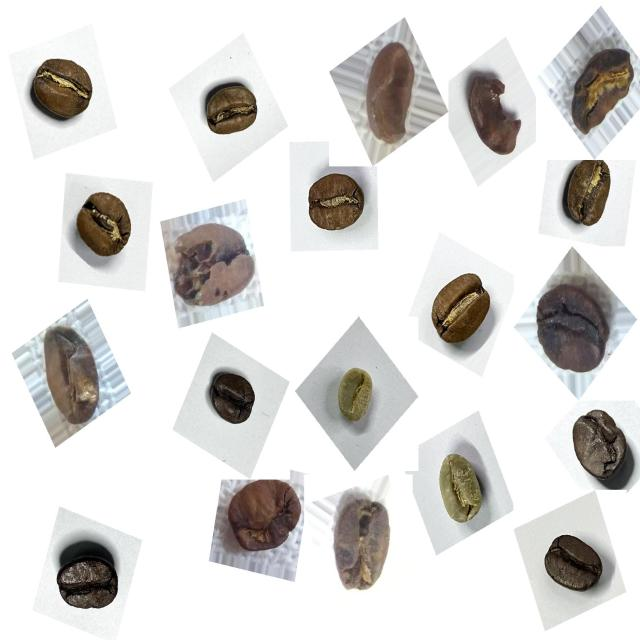bad: (526, 270, 621, 386), (162, 208, 260, 320), (30, 313, 112, 431), (323, 488, 404, 605), (217, 469, 311, 567), (354, 30, 428, 148), (564, 36, 638, 142), (461, 64, 531, 167)
dark: (47, 529, 129, 625), (559, 397, 639, 489), (535, 520, 612, 608), (202, 363, 266, 441)
green: (422, 444, 493, 538), (326, 356, 385, 434)
medium: (420, 261, 500, 357), (66, 179, 146, 271), (23, 47, 104, 135), (298, 162, 374, 246), (555, 155, 623, 236), (196, 74, 268, 149)
